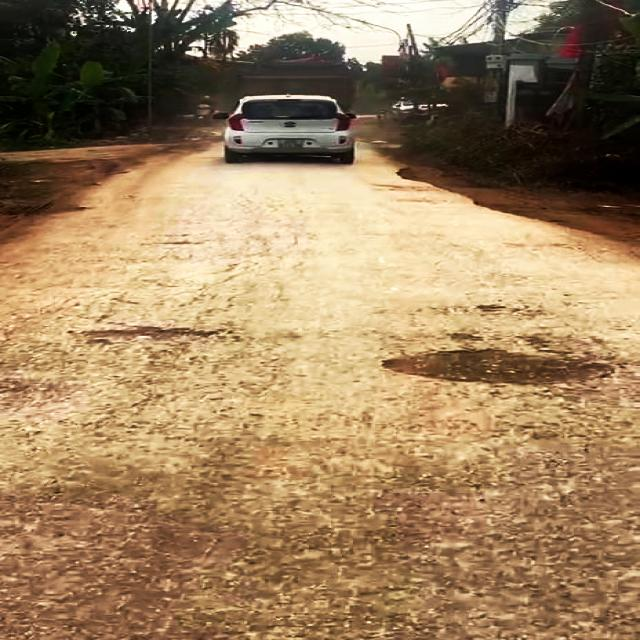pothole: (380, 347, 624, 391), (80, 323, 219, 346)
